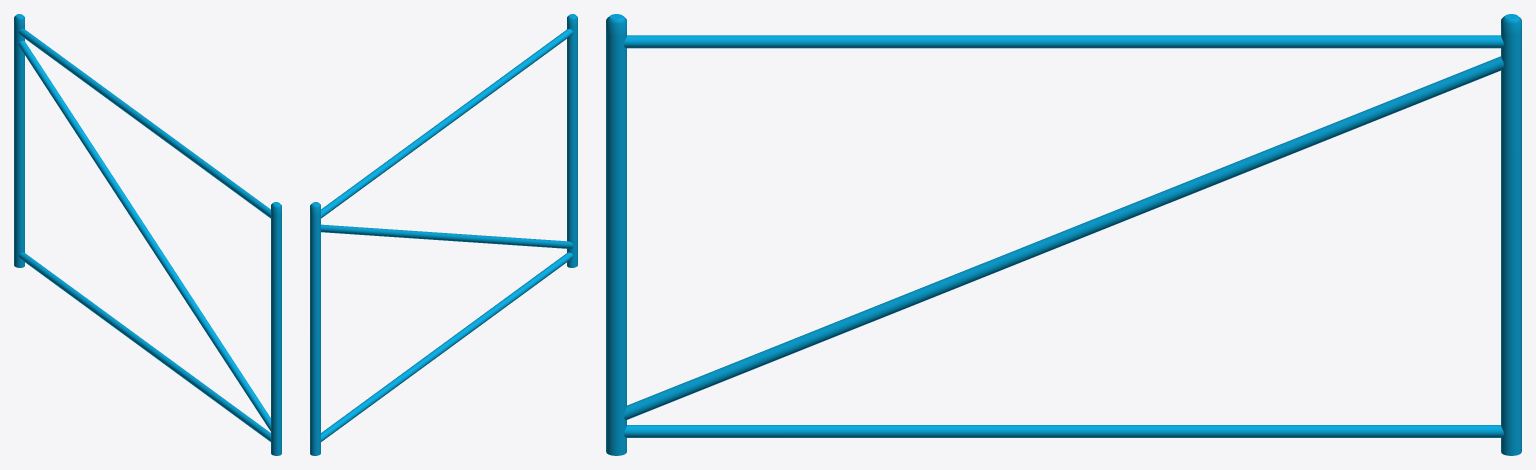
The model's file is Fence_01_Door_Lod0.fbx.
The picture shows the model from 3 angles, left to right: view 1: azimuth 30°, elevation 25°; view 2: azimuth 150°, elevation 25°; view 3: azimuth 270°, elevation 25°; orthographic projection. The views are drawn at different scales.
Parts seen in each view (by area): view 1: Fence_01_Door_Lod0; view 2: Fence_01_Door_Lod0; view 3: Fence_01_Door_Lod0.
Part boxes in pixels (x1,y1,x2,y2): Fence_01_Door_Lod0: (14,14,281,455); Fence_01_Door_Lod0: (310,14,577,455); Fence_01_Door_Lod0: (606,14,1521,455).
Bounding box in the file's own units: 9.03 × 232 × 441.
